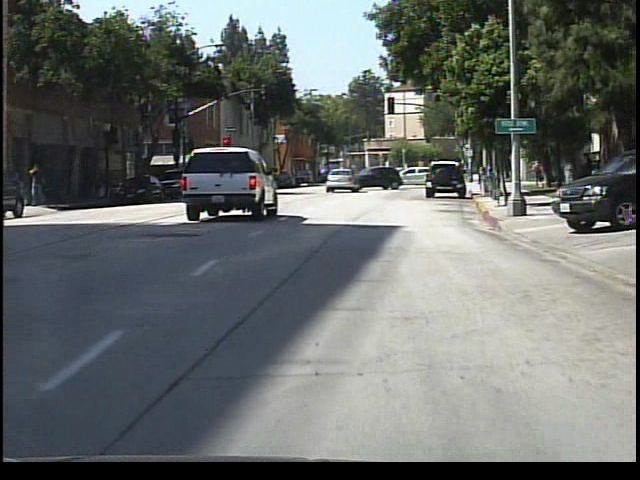person: (29, 159, 53, 208), (323, 161, 341, 190), (531, 158, 547, 190), (477, 155, 492, 183)
